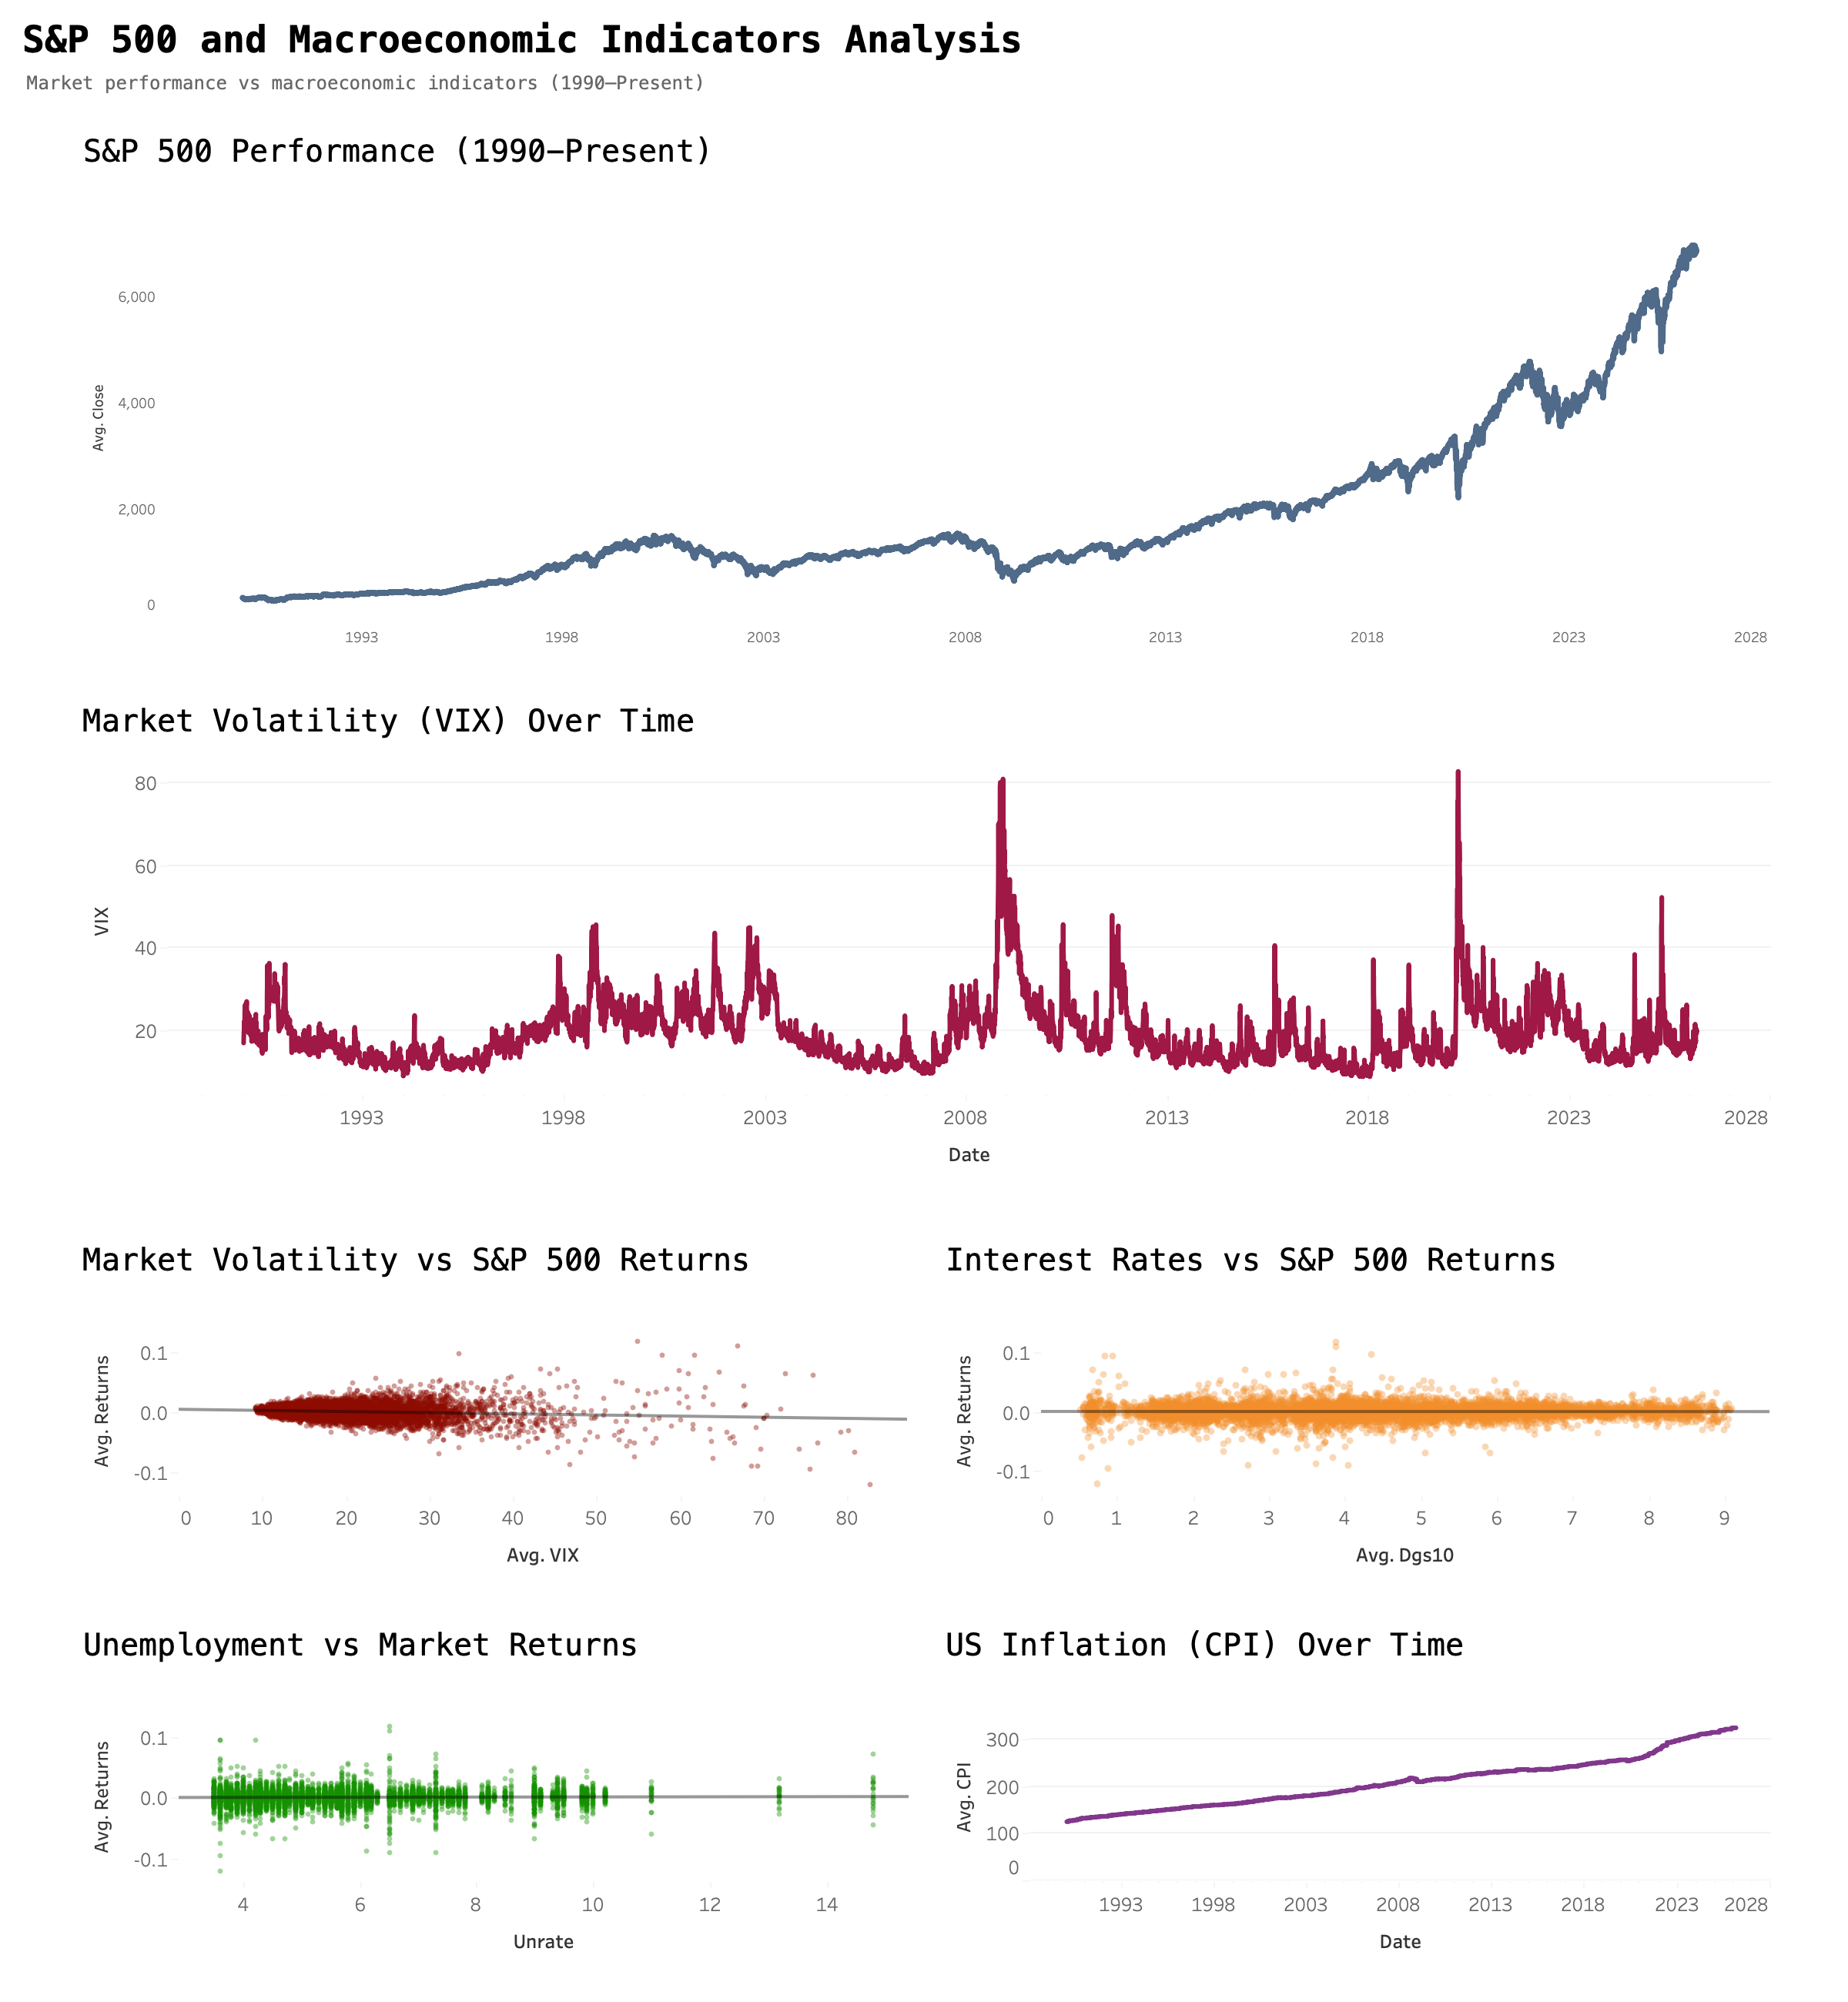

The dashboard page shown, as its layout file describes it:
{"tool":"tableau","page":{"name":"Dashboard","canvas":[1200,1300],"ordinal":0},"visuals":[{"type":"title","box":[8,8,1184,67]},{"type":"text","box":[15,37,720,34]},{"type":"worksheet","title":"S&P 500 Market Performance","mark":"Automatic","rows":["close"],"cols":["date"],"box":[50,80,1100,350]},{"type":"worksheet","title":"Market Volatility (VIX) Over Time","mark":"Line","rows":["VIX"],"cols":["date"],"box":[50,450,1100,315]},{"type":"worksheet","title":"Volatility vs Market Returns","mark":"Circle","rows":["returns"],"cols":["VIX"],"box":[50,800,540,225]},{"type":"worksheet","title":"Interest Rates vs Market Returns","mark":"Circle","rows":["returns"],"cols":["DGS10"],"box":[610,800,540,225]},{"type":"worksheet","title":"Unemployment vs Market Returns","mark":"Circle","rows":["returns"],"cols":["UNRATE"],"box":[50,1050,540,226]},{"type":"worksheet","title":"US Inflation (CPI) Trend","mark":"Automatic","rows":["CPI"],"cols":["date"],"box":[610,1050,540,226]}]}

Visuals, with their boxes in screenshot pixels (x1, y1, x2, y2), scaled from the page's 1200x1300 canvas onto the 1848x2002 screenshot:
title: 12 12 1836 115
text: 23 57 1132 109
"S&P 500 Market Performance" worksheet: 77 123 1771 662
"Market Volatility (VIX) Over Time" worksheet (Line marks): 77 693 1771 1178
"Volatility vs Market Returns" worksheet (Circle marks): 77 1232 909 1578
"Interest Rates vs Market Returns" worksheet (Circle marks): 939 1232 1771 1578
"Unemployment vs Market Returns" worksheet (Circle marks): 77 1617 909 1965
"US Inflation (CPI) Trend" worksheet: 939 1617 1771 1965
